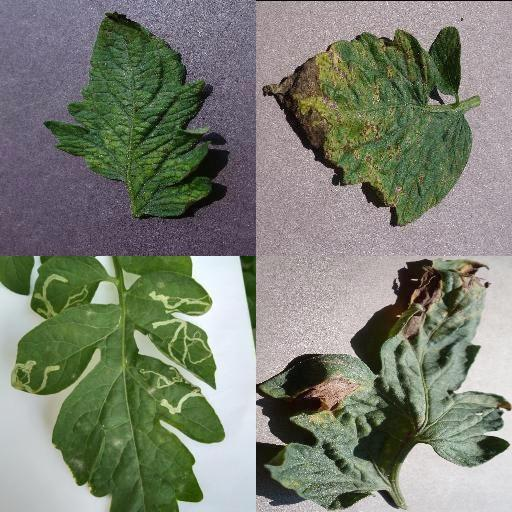Early Blight: (256, 259, 512, 512)
Leaf Miner: (10, 271, 225, 512), (30, 256, 109, 319)
Mosaic Virus: (41, 9, 215, 219)
Septoria: (264, 24, 472, 226)
